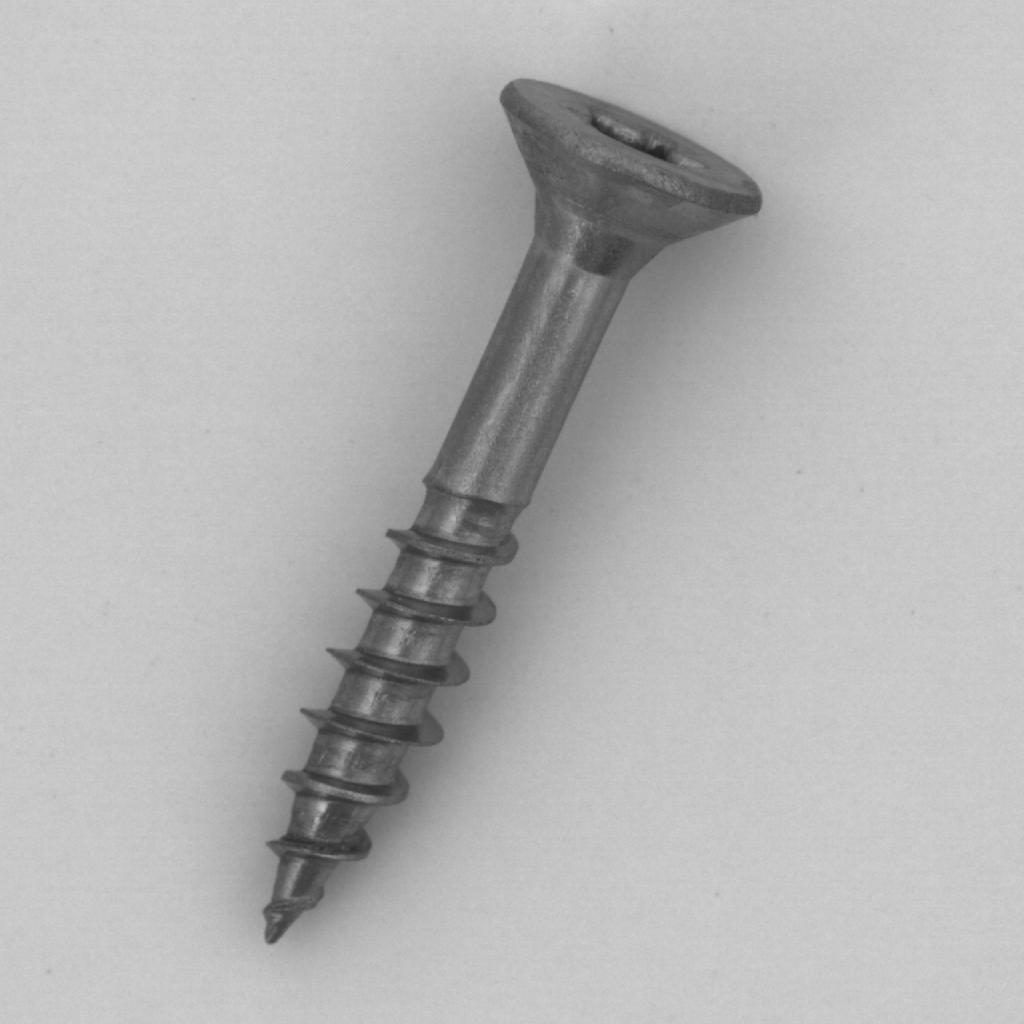good: (243, 66, 783, 958)
